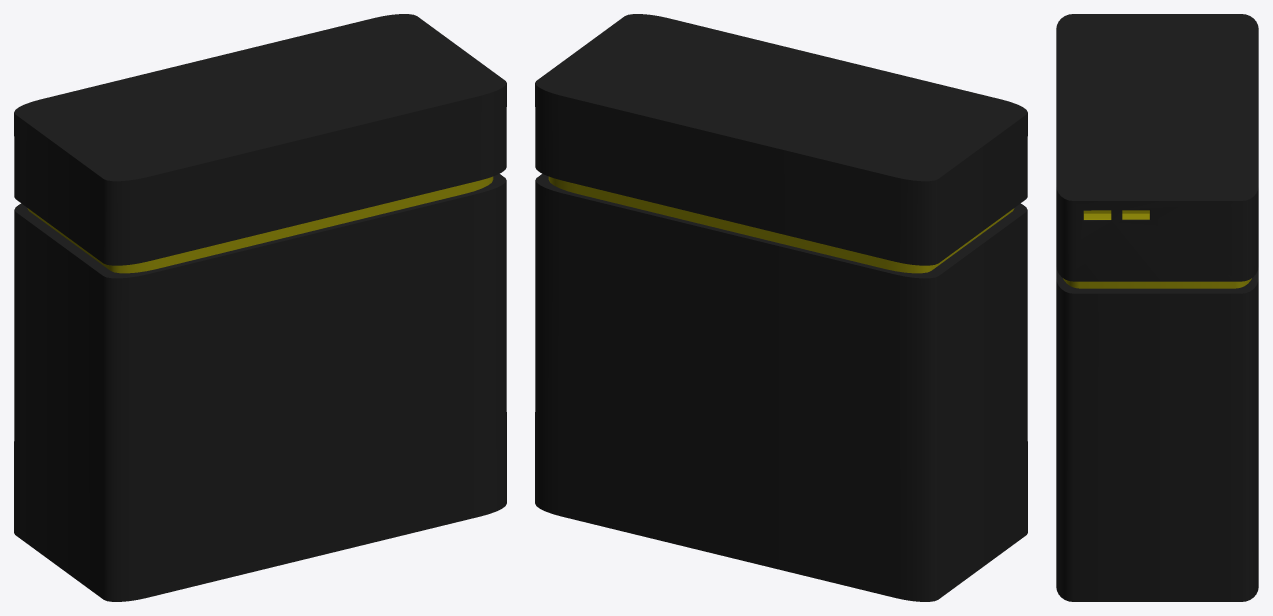
The picture shows the model from 3 angles, left to right: view 1: azimuth 30°, elevation 25°; view 2: azimuth 150°, elevation 25°; view 3: azimuth 270°, elevation 25°; orthographic projection. The views are drawn at different scales.
Visible parts, largest first — view 1: PC; view 2: PC; view 3: PC.
Boxes of the visible parts, <box> form: PC: <box>14,14,506,601</box>; PC: <box>535,14,1027,601</box>; PC: <box>1056,14,1258,601</box>.
Bounding box in the file's own units: 49.54 × 49.54 × 22.68.
